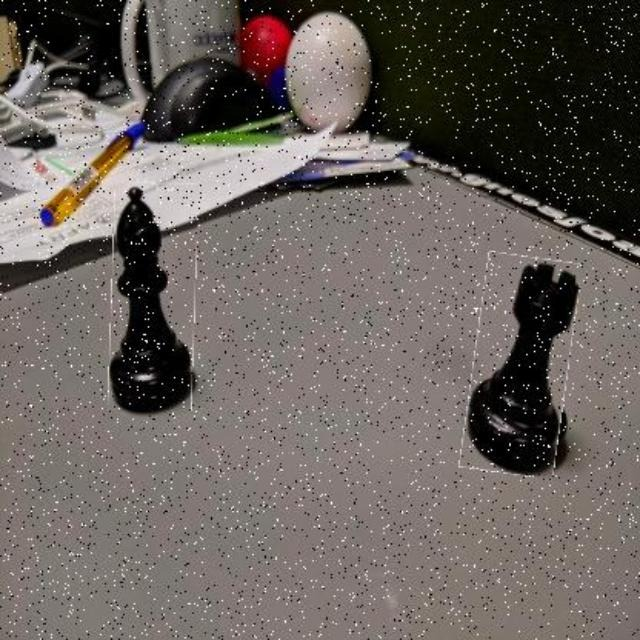black-bishop: (110, 183, 196, 419)
black-rook: (466, 254, 575, 475)
